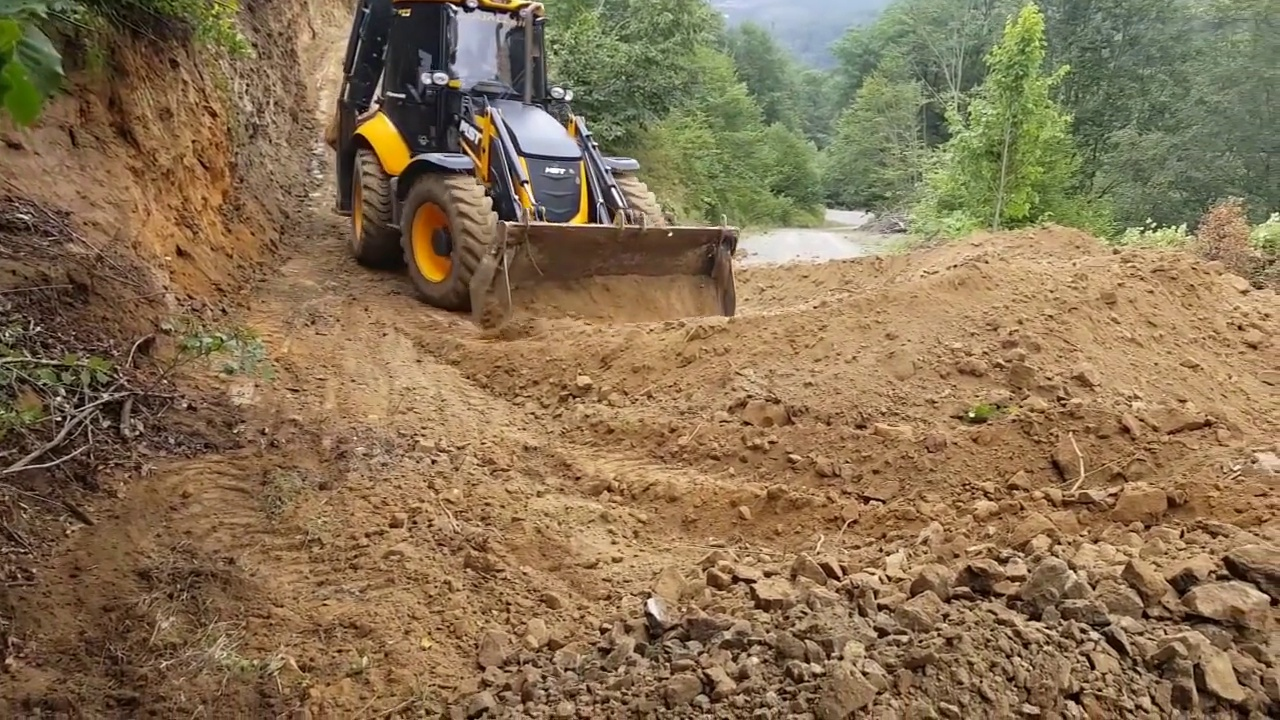wheel loader: (328, 4, 748, 350)
